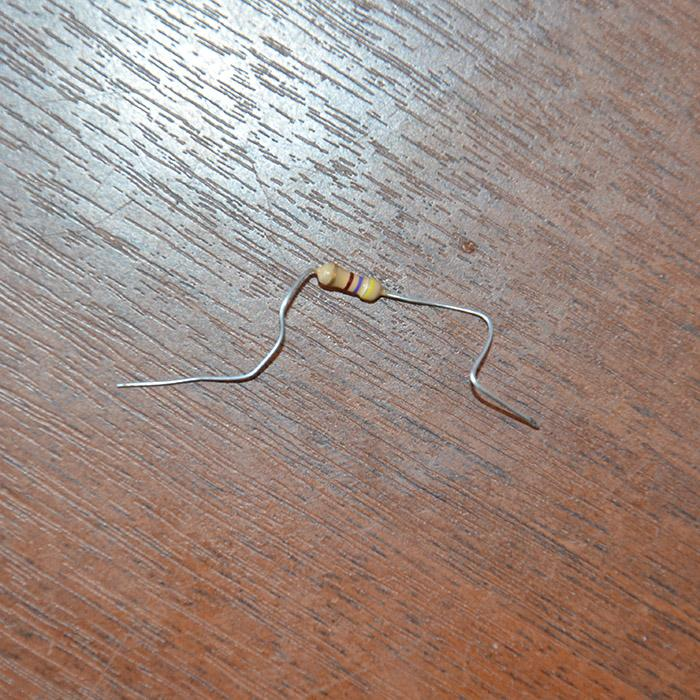resistor: (262, 315, 303, 385)
